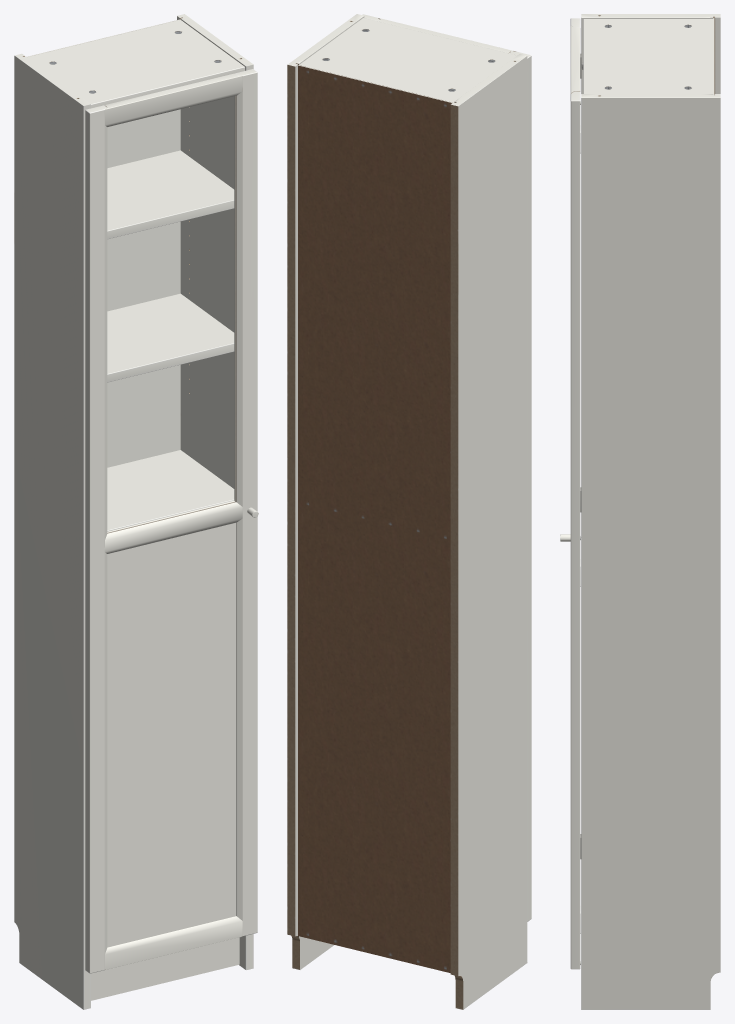
File: 43 - BILLY OXBERG Bookcase with panelglass door - whiteglass 40x30x202 cm.glb
The picture shows the model from 3 angles, left to right: view 1: azimuth 30°, elevation 25°; view 2: azimuth 150°, elevation 25°; view 3: azimuth 270°, elevation 25°; orthographic projection.
Bounding box in the file's own units: 0.398 × 2.02 × 0.3219.
2 materials, 1 textured.
